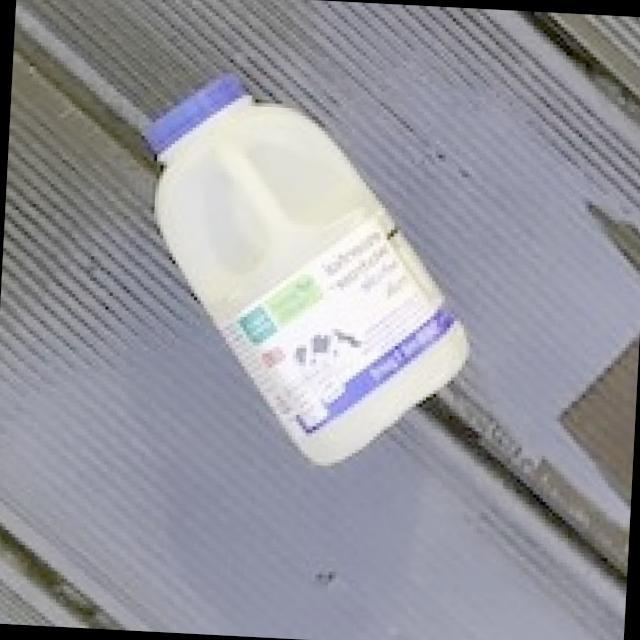HDPE Plastic: (139, 70, 477, 472)
